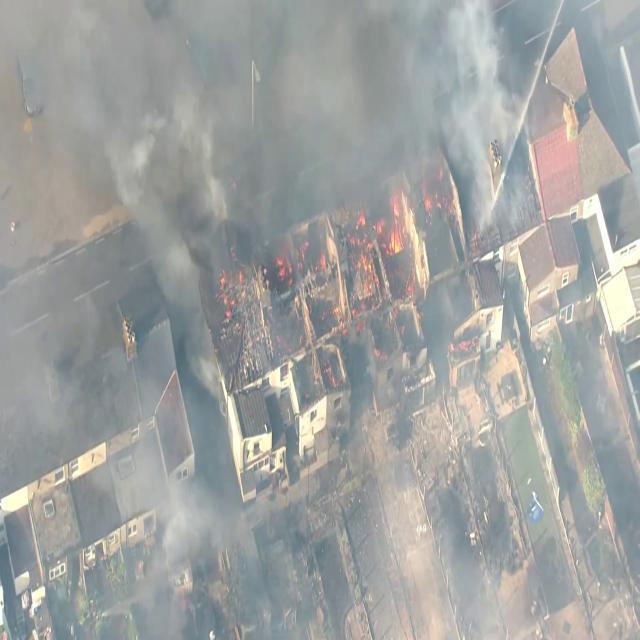Fire: (366, 195, 426, 256)
Smoke: (98, 27, 238, 197), (458, 23, 521, 195)
